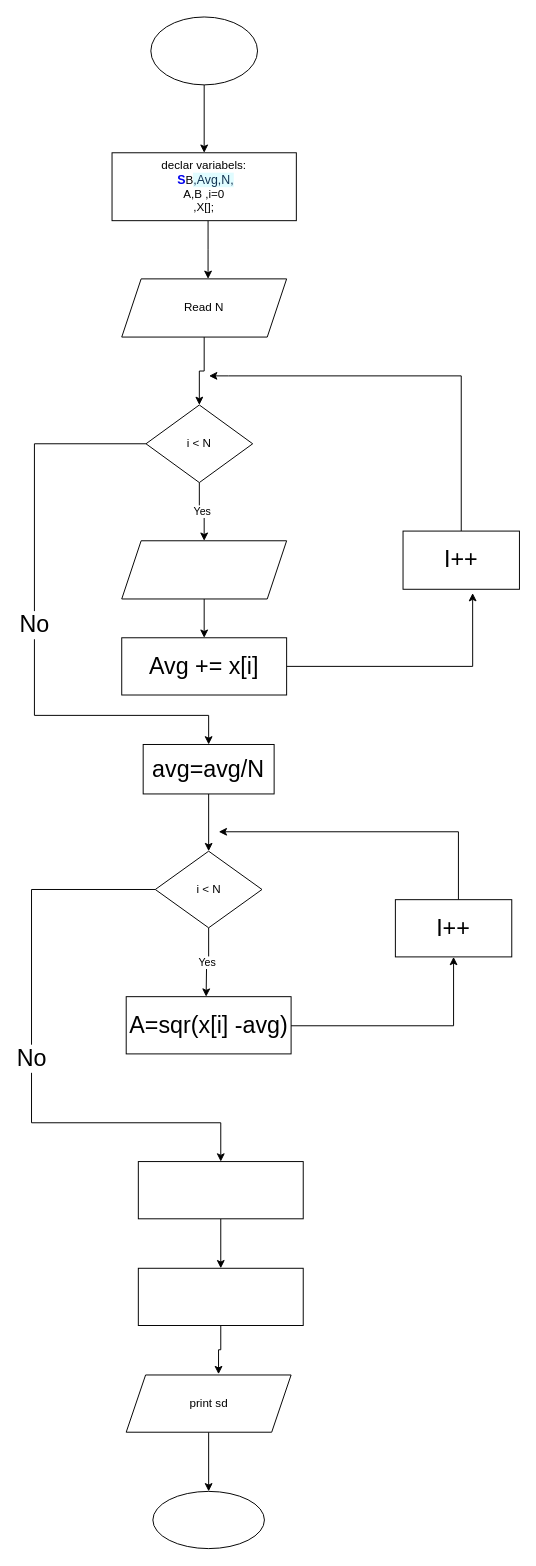
Some shapes in this 536 by 1566 pixel diagram are drawn without their labels. Here are the shapes that lost their labels. From the top down, the centre of each, then its label:
the point at 204,50: Start
the point at 204,569: Read x[i];
the point at 220,1190: b = A / n
the point at 220,1296: sd=sqrt(b)
the point at 208,1519: End
